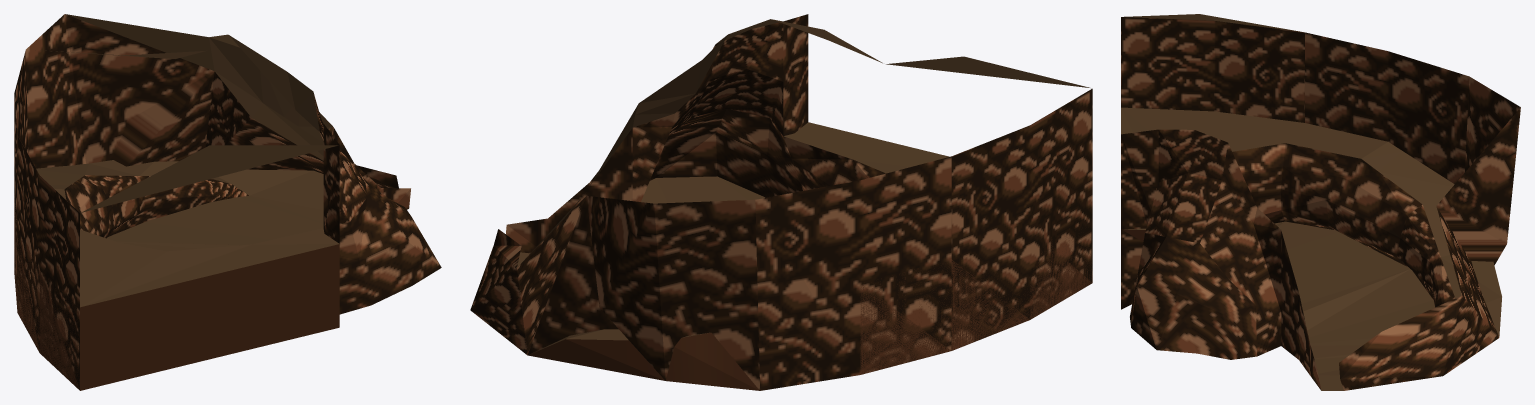
File: Modelo Corteza Baja 1.fbx
The picture shows the model from 3 angles, left to right: view 1: azimuth 30°, elevation 25°; view 2: azimuth 150°, elevation 25°; view 3: azimuth 270°, elevation 25°; orthographic projection. The views are drawn at different scales.
Visible parts, largest first — view 1: Corteza Baja 1; view 2: Corteza Baja 1; view 3: Corteza Baja 1.
Part boxes in pixels (x1,y1,x2,y2): Corteza Baja 1: (14, 14, 441, 390); Corteza Baja 1: (470, 14, 1092, 390); Corteza Baja 1: (1121, 14, 1520, 390).
Bounding box in the file's own units: 20000 × 16629 × 10421.
Materials: 2 (1 with a texture image).
